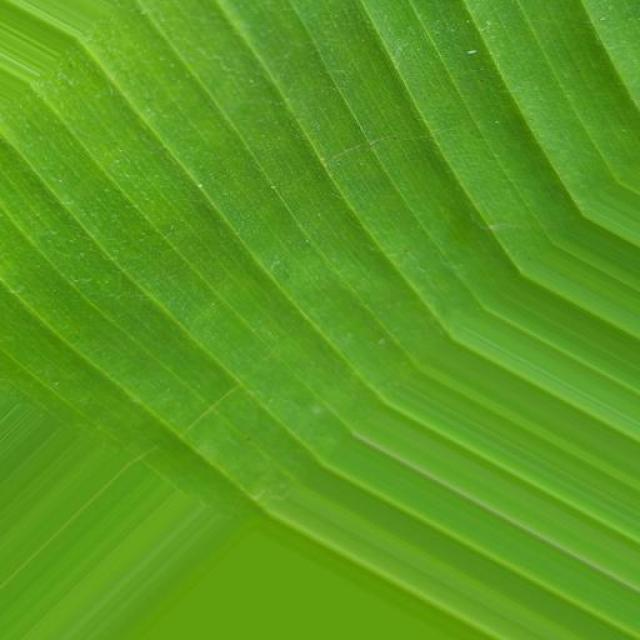Black_leaf_spot: (7, 1, 640, 558)
